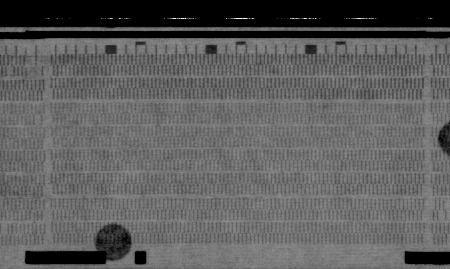Broken hole: (23, 54, 50, 81), (437, 197, 450, 223), (5, 65, 17, 78), (32, 115, 43, 127)
